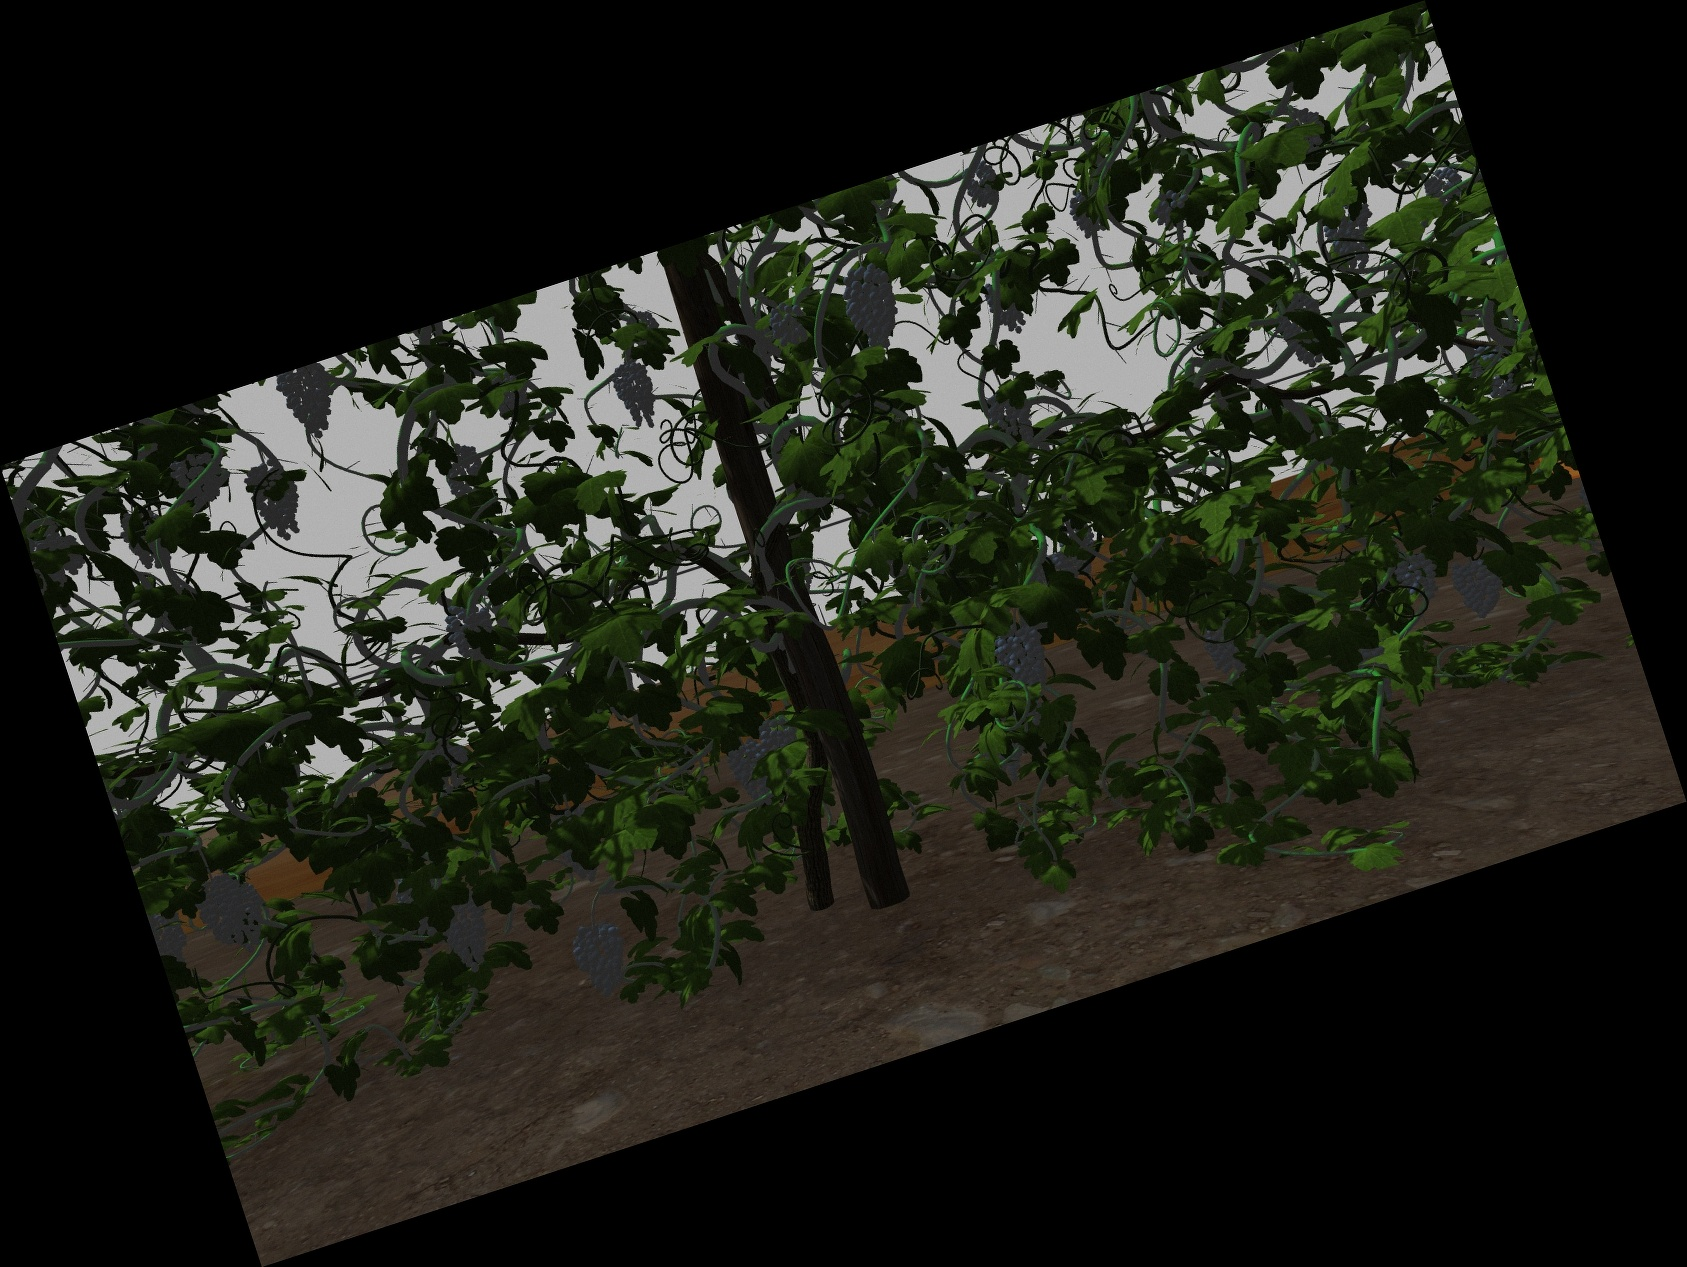grape: (201, 874, 265, 949), (847, 262, 897, 347), (576, 922, 629, 999), (251, 460, 303, 538), (282, 371, 343, 437), (444, 888, 490, 970), (1325, 210, 1377, 273), (1453, 556, 1503, 618), (1283, 295, 1326, 365), (999, 631, 1050, 691), (176, 454, 233, 504), (447, 602, 495, 661), (989, 385, 1034, 445), (619, 361, 656, 430), (730, 739, 769, 796), (444, 445, 483, 495), (1398, 554, 1440, 600), (1205, 624, 1245, 671), (772, 302, 808, 346), (1151, 188, 1191, 222), (762, 717, 797, 755), (969, 165, 999, 205)
